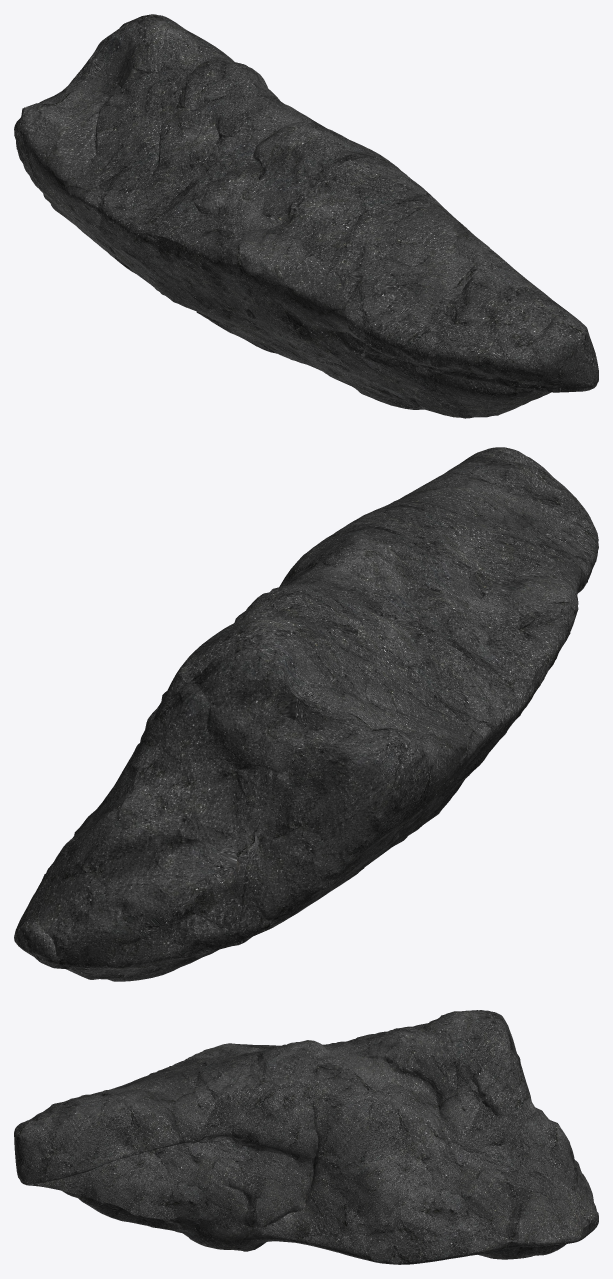
The model's file is chromite.glb.
3 renders of one model, top to bottom at view 1: azimuth 30°, elevation 25°; view 2: azimuth 150°, elevation 25°; view 3: azimuth 270°, elevation 25°, orthographic. The views are drawn at different scales.
Visible parts, largest first — view 1: model; view 2: model; view 3: model.
Part boxes in pixels (x1,y1,x2,y2): model: [14, 14, 598, 418]; model: [14, 447, 598, 981]; model: [14, 1010, 598, 1264].
Size of the model in its own units: 0.7772 by 0.7167 by 1.76.
1 material, 1 textured.
